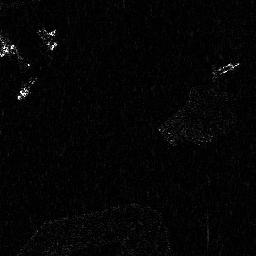ship: (16, 74, 37, 102), (210, 60, 243, 76)
